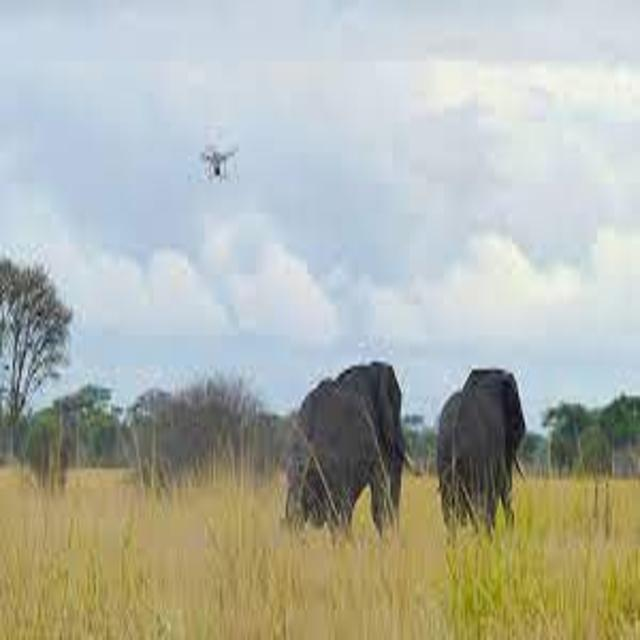elephant: (245, 331, 445, 572), (405, 333, 562, 573)
